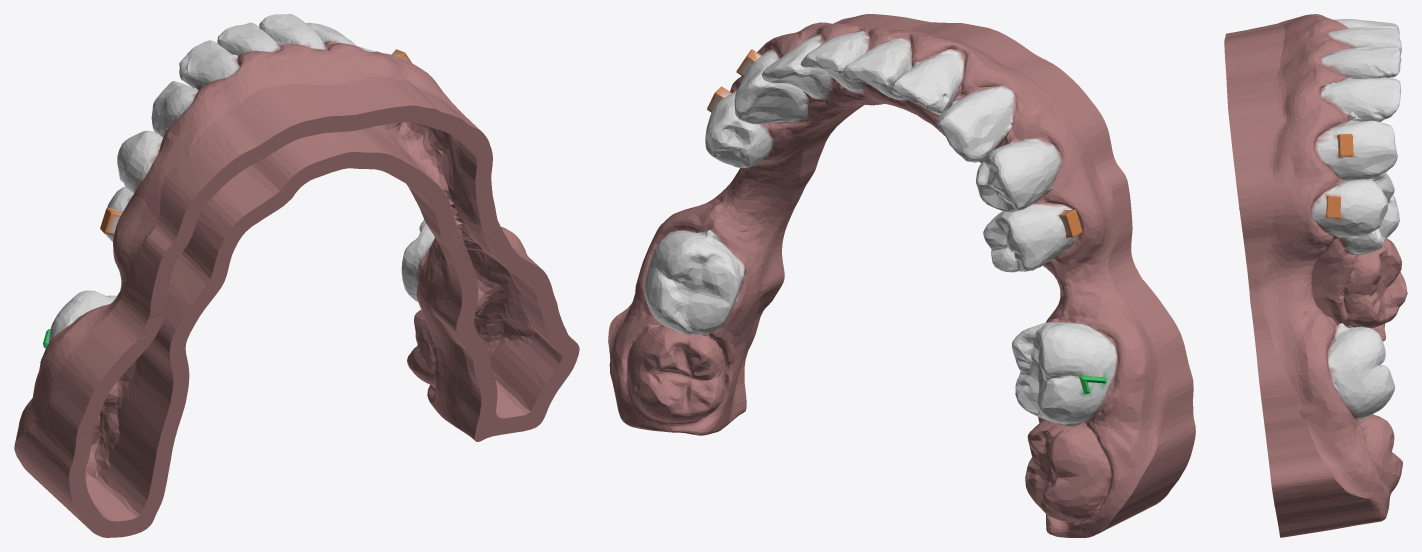
The model's file is lower-model-7.glb.
3 renders of one model, left to right at view 1: azimuth 30°, elevation 25°; view 2: azimuth 150°, elevation 25°; view 3: azimuth 270°, elevation 25°, orthographic. The views are drawn at different scales.
Parts seen in each view (by area): view 1: 7 (1); view 2: 7 (1); view 3: 7 (1).
Boxes of the visible parts, x1,y1,x2,y2 form: 7 (1): (14,14,579,537); 7 (1): (608,14,1195,537); 7 (1): (1224,14,1407,537).
Size of the model in its own units: 64.23 by 50.31 by 20.71.
